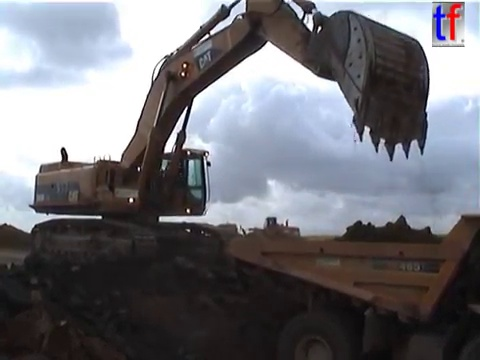excavator: (24, 1, 434, 267)
truck: (222, 211, 480, 360)
wheel loader: (234, 215, 304, 248)
